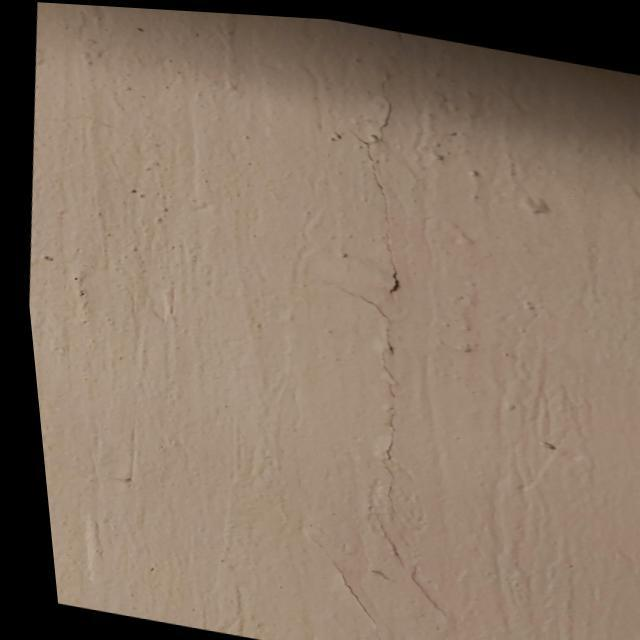Crack: (361, 89, 403, 559)
